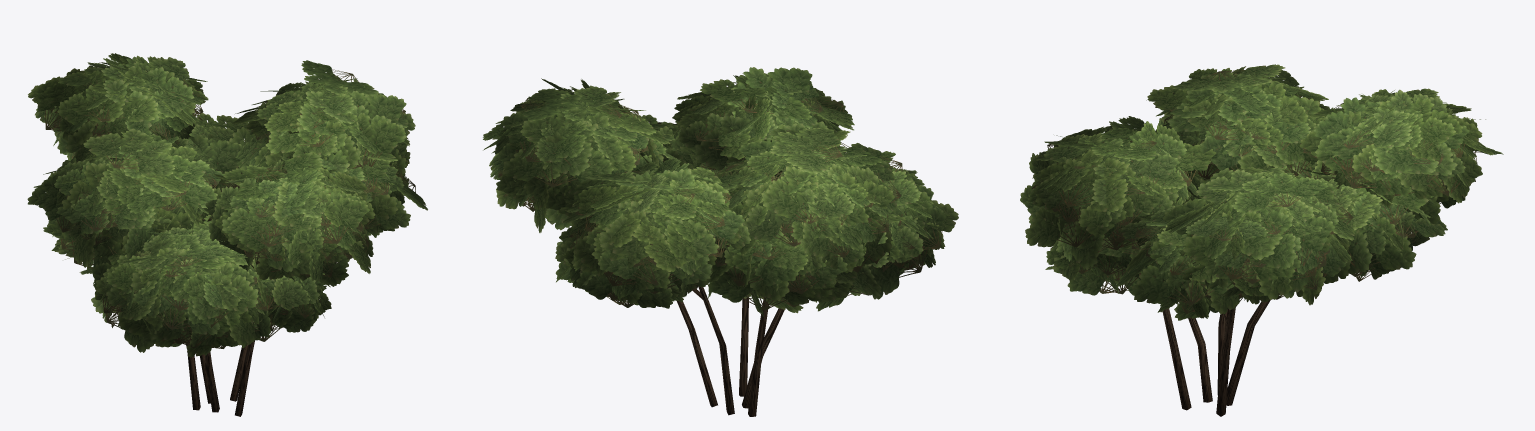
The model's file is goran_a_lod1.glb.
3 renders of one model, left to right at view 1: azimuth 30°, elevation 25°; view 2: azimuth 150°, elevation 25°; view 3: azimuth 270°, elevation 25°, orthographic. The views are drawn at different scales.
Parts seen in each view (by area): view 1: leaves, wood; view 2: leaves, wood; view 3: leaves, wood.
Part boxes in pixels (<box>): leaves: <box>27,53,427,357</box>; wood: <box>185,339,254,416</box>; leaves: <box>483,67,958,316</box>; wood: <box>677,286,784,416</box>; leaves: <box>1020,64,1503,320</box>; wood: <box>1162,300,1270,416</box>.
Bounding box in the file's own units: 3.5 × 2.84 × 3.82.
Materials: 2 (2 with a texture image).
